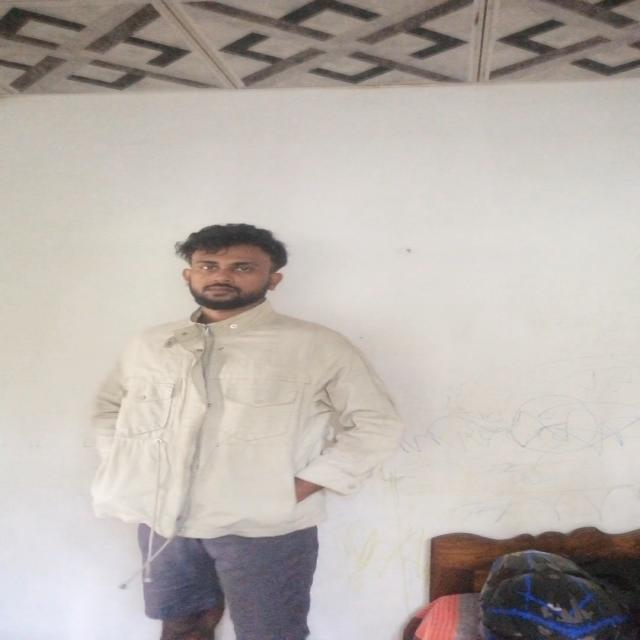Jacket_Wearer: (102, 310, 397, 538)
Person: (99, 221, 395, 640)
